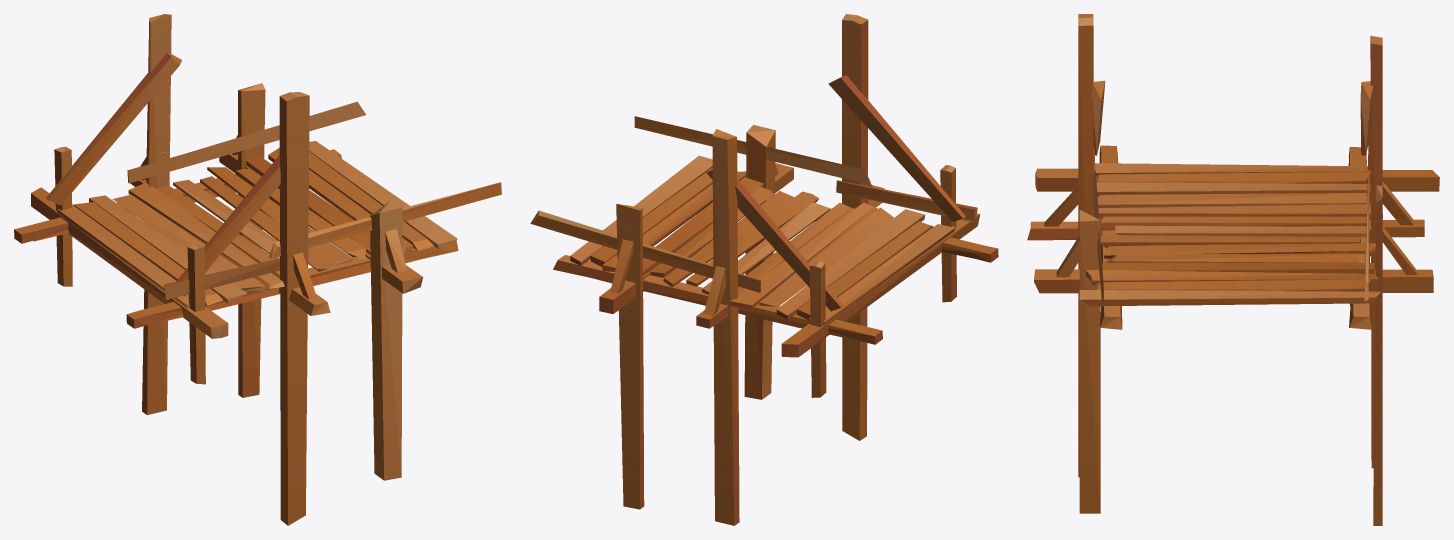
File: bridge008.gltf
The picture shows the model from 3 angles, left to right: view 1: azimuth 30°, elevation 25°; view 2: azimuth 150°, elevation 25°; view 3: azimuth 270°, elevation 25°; orthographic projection. The views are drawn at different scales.
Visible parts, largest first — view 1: node_Manmade06_3_-546864; view 2: node_Manmade06_3_-546864; view 3: node_Manmade06_3_-546864.
Boxes of the visible parts, x1,y1,x2,y2 form: node_Manmade06_3_-546864: (14, 14, 501, 525); node_Manmade06_3_-546864: (530, 14, 998, 525); node_Manmade06_3_-546864: (1027, 14, 1439, 525).
Size of what is drawn, in the model's own units: 2.91 by 3.22 by 2.61.
Materials: 1 (1 with a texture image).
